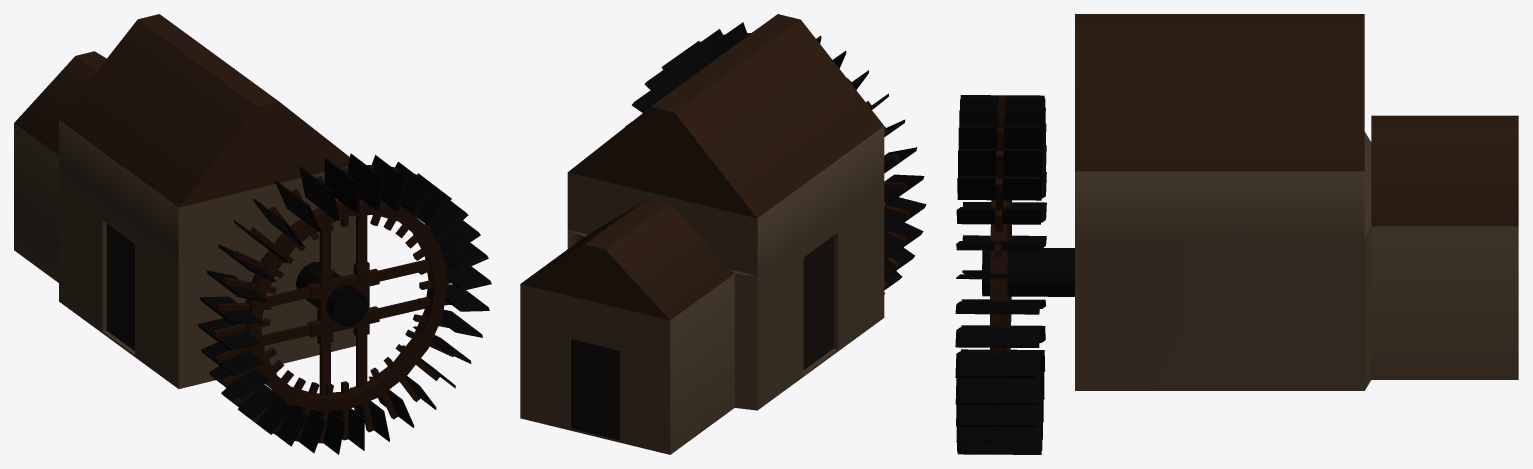
The model's file is WaterMill1.fbx.
3 views of the same model, side by side, from view 1: azimuth 30°, elevation 25°; view 2: azimuth 150°, elevation 25°; view 3: azimuth 270°, elevation 25° (orthographic). The views are drawn at different scales.
Parts seen in each view (by area): view 1: WaterMillHouse, pasted__WaterMill_2; view 2: WaterMillHouse, pasted__WaterMill_2; view 3: WaterMillHouse, pasted__WaterMill_2.
Part boxes in pixels (x1,y1,x2,y2): WaterMillHouse: [14, 14, 355, 388]; pasted__WaterMill_2: [198, 153, 491, 454]; WaterMillHouse: [520, 14, 884, 454]; pasted__WaterMill_2: [625, 22, 926, 294]; WaterMillHouse: [1075, 14, 1518, 390]; pasted__WaterMill_2: [955, 95, 1074, 454].
Bounding box in the file's own units: 26.46 × 30.89 × 40.38.
